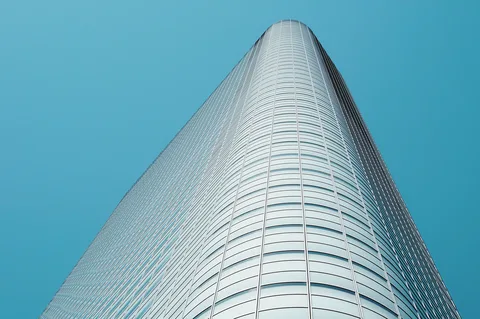high_rise_building: (202, 12, 388, 318)
